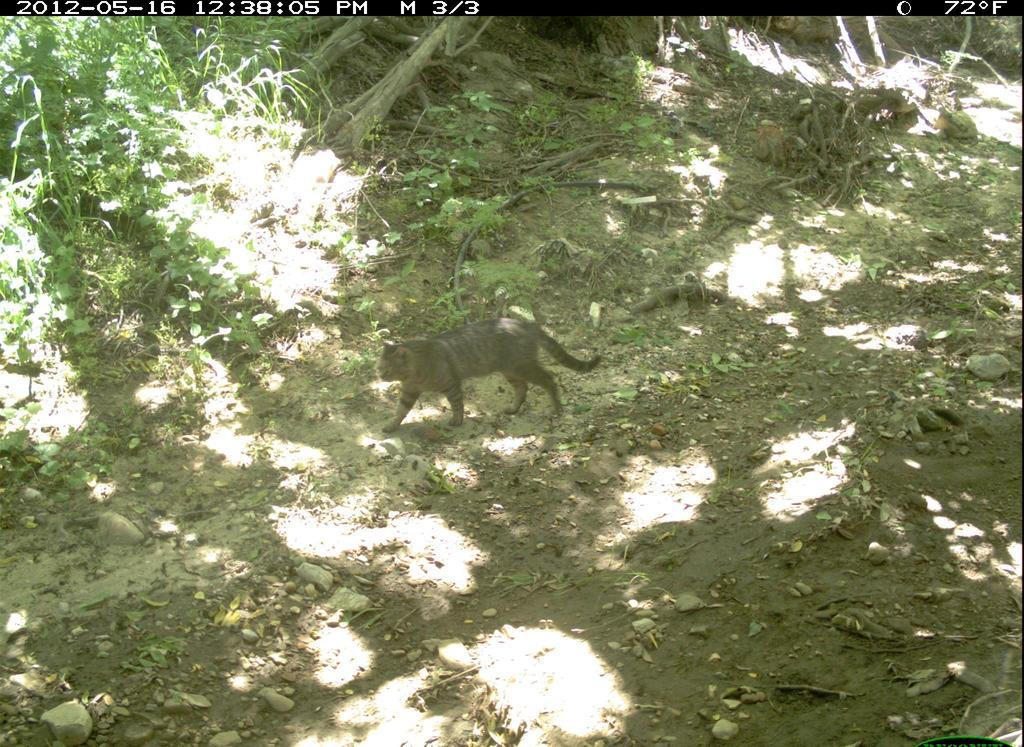cat: (377, 308, 607, 436)
